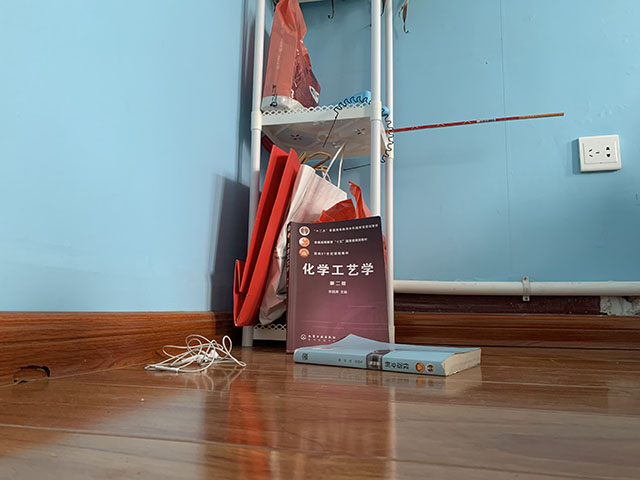book: (284, 215, 392, 354), (292, 332, 483, 377)
wire: (144, 333, 249, 374)
